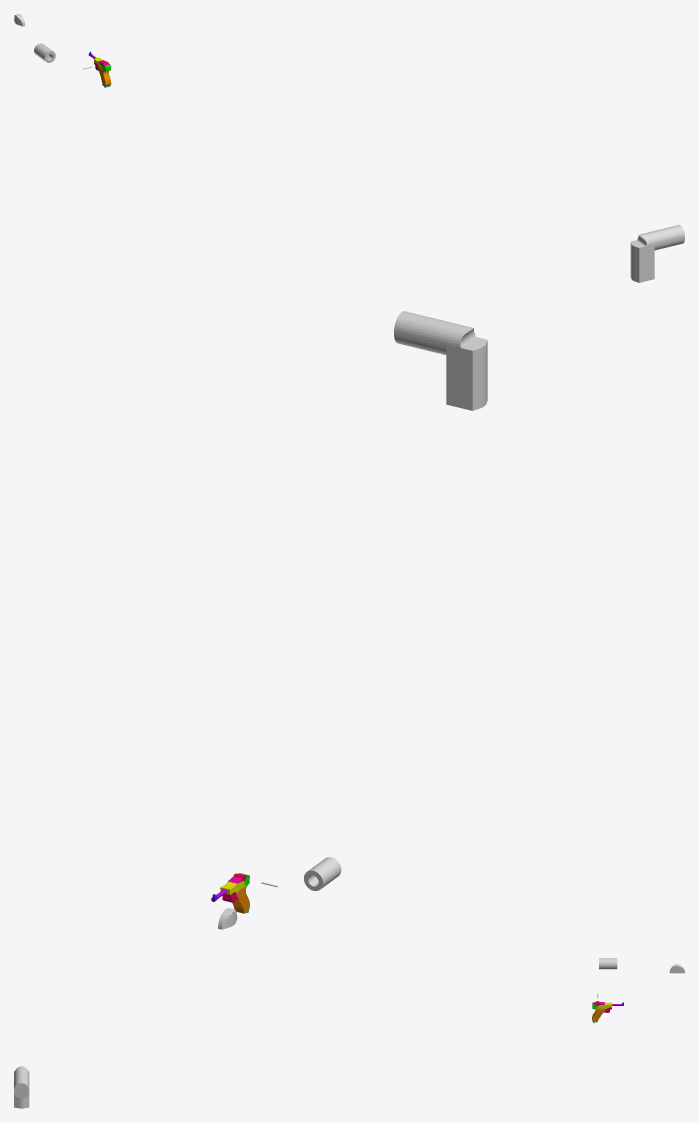
File: Gun.fbx
The picture shows the model from 3 angles, top to bottom: view 1: azimuth 30°, elevation 25°; view 2: azimuth 150°, elevation 25°; view 3: azimuth 270°, elevation 25°; orthographic projection. The views are drawn at different scales.
Parts seen in each view (by area): view 1: Cube, Cylinder; view 2: Cube, Cylinder; view 3: Cylinder.
Part boxes in pixels (left/top/right/bottom): Cube: left=630, top=244, right=654, bottom=282; Cylinder: left=637, top=225, right=684, bottom=246; Cube: left=446, top=343, right=487, bottom=410; Cylinder: left=394, top=311, right=475, bottom=347; Cylinder: left=14, top=1066, right=29, bottom=1090.
Bounding box in the file's own units: 3926 × 586 × 8824.
